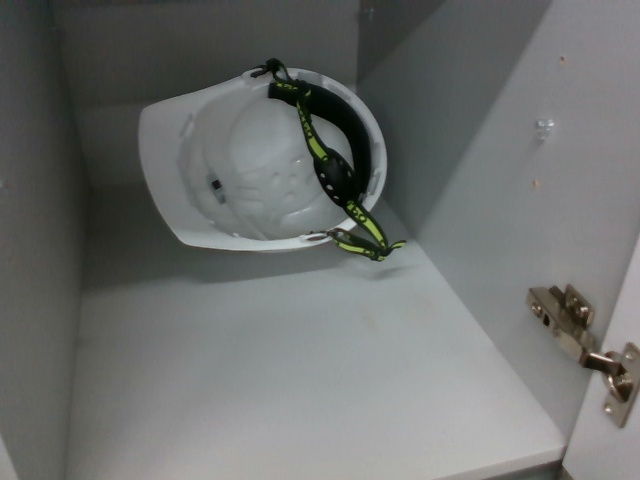helmet: (128, 60, 395, 258)
